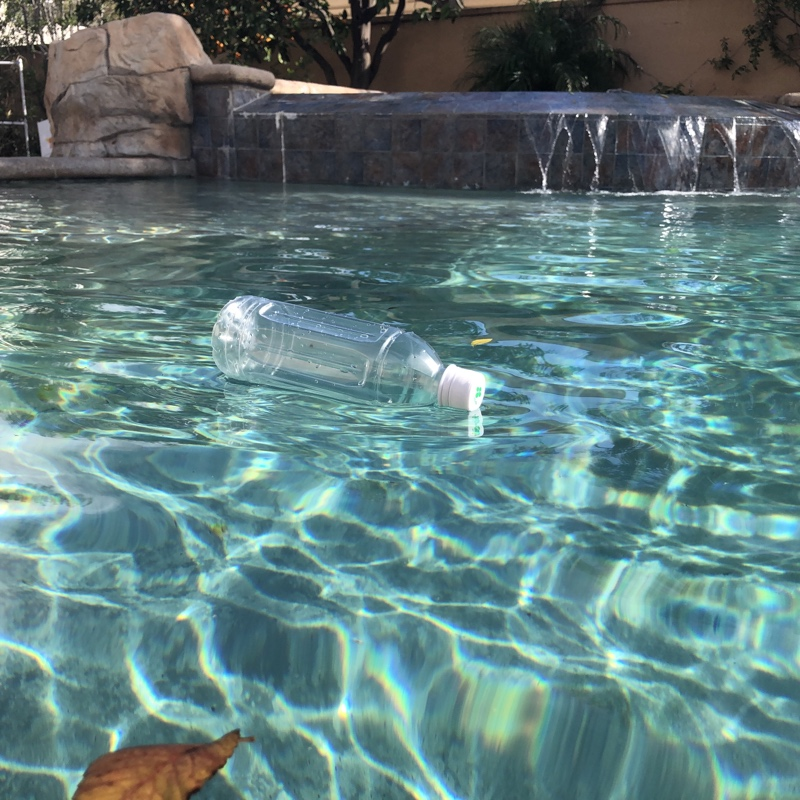Plastic Bottle: (207, 287, 492, 421)
